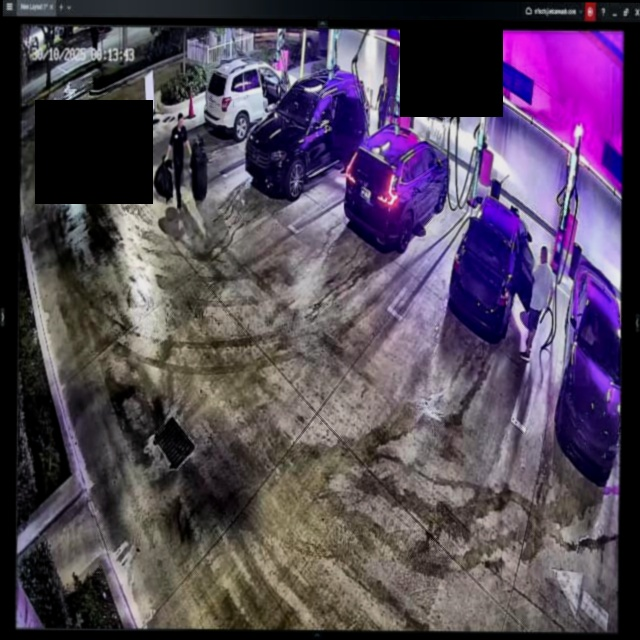Car: (246, 67, 372, 198), (438, 190, 541, 349), (343, 126, 449, 248)
